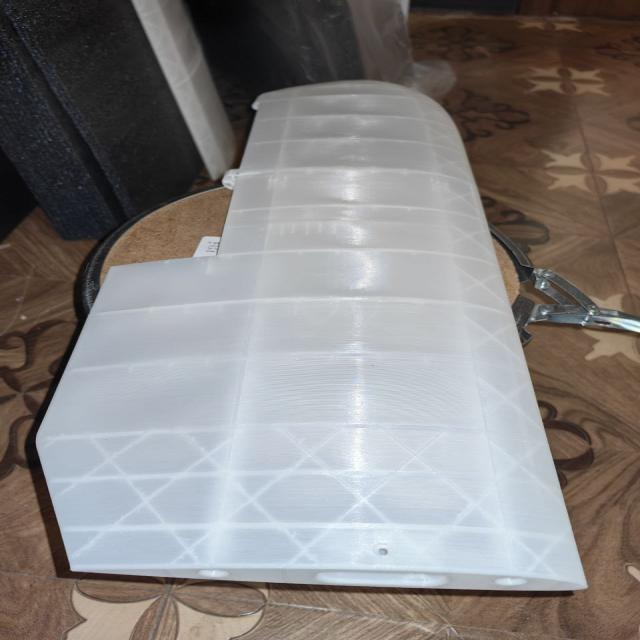Without deffect: (41, 52, 598, 607)
